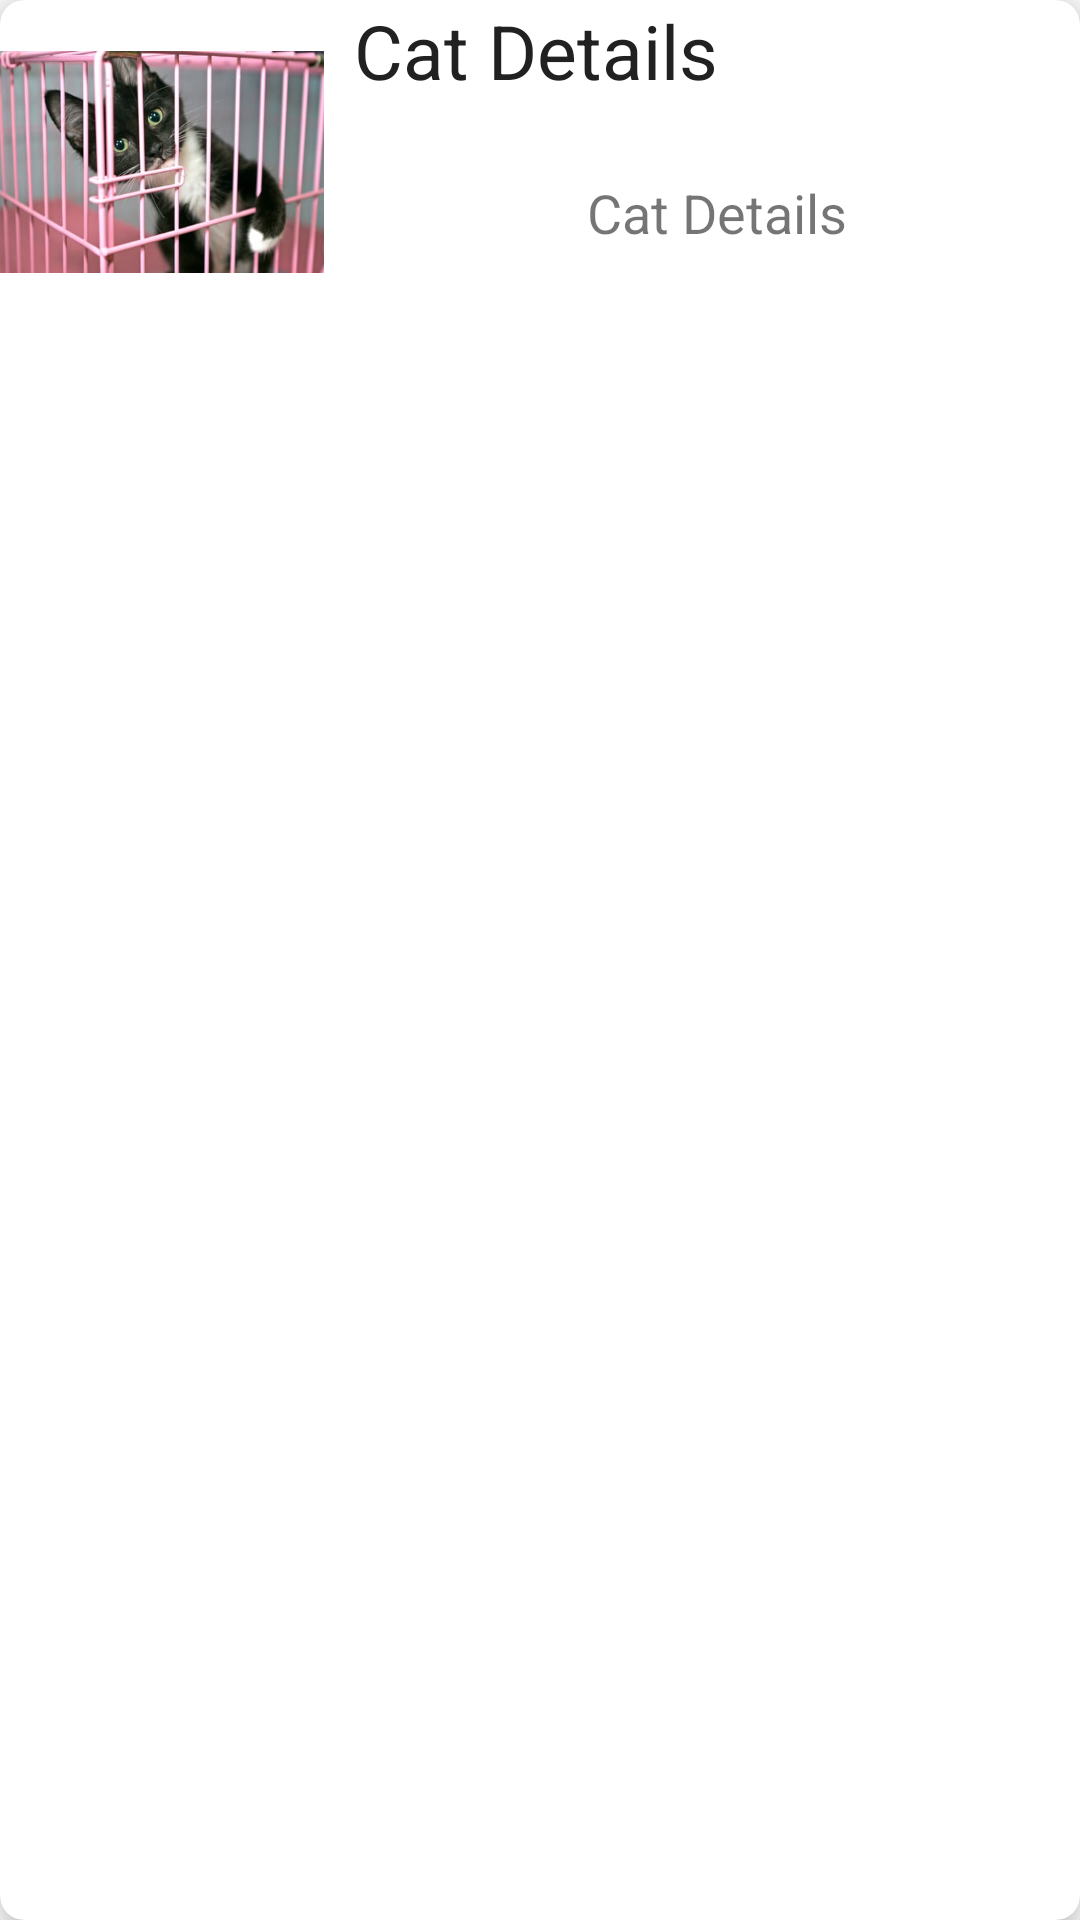

Screen size 1080×1920. Icon name, then its center in pixels as point (x, y):
Kitten Image: point (162, 137)
